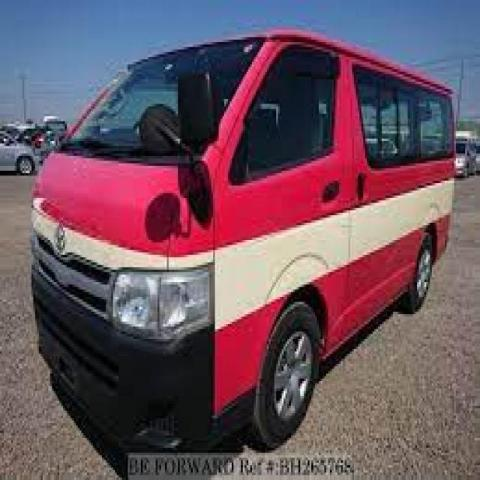van: (28, 27, 456, 448)
